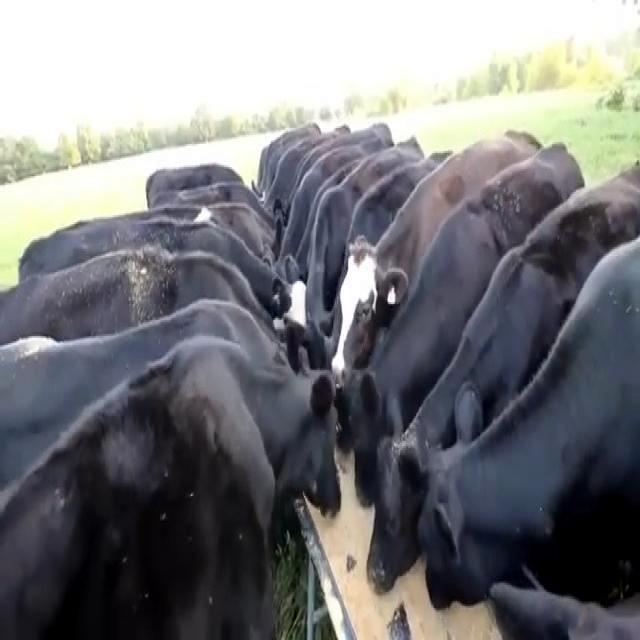COW: (0, 122, 640, 638)
